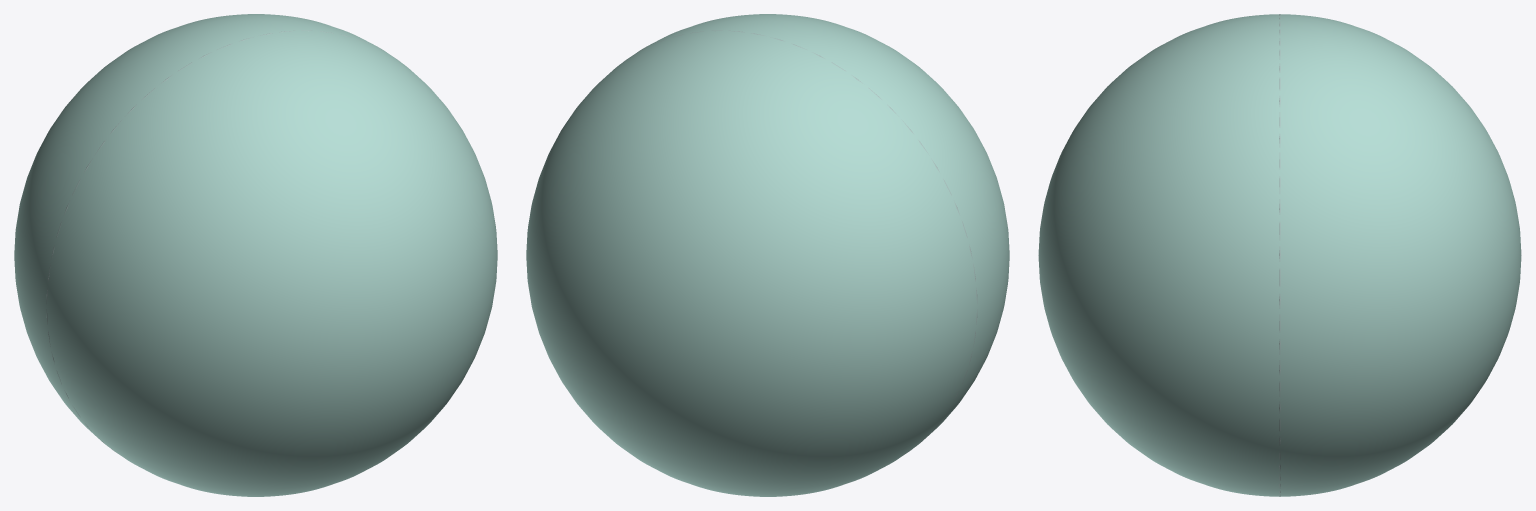
File: orbit-gyro.glb
3 renders of one model, left to right at view 1: azimuth 30°, elevation 25°; view 2: azimuth 150°, elevation 25°; view 3: azimuth 270°, elevation 25°, orthographic.
Parts seen in each view (by area): view 1: Front hemisphere, Rear hemisphere, Housing joint; view 2: Rear hemisphere, Front hemisphere, Housing joint; view 3: Front hemisphere, Rear hemisphere, Housing joint.
Boxes of the visible parts, x1,y1,x2,y2 form: Front hemisphere: (46,30,497,496); Rear hemisphere: (14,14,386,444); Housing joint: (46,30,399,453); Rear hemisphere: (526,30,977,496); Front hemisphere: (637,14,1009,444); Housing joint: (624,30,977,453); Front hemisphere: (1038,14,1279,496); Rear hemisphere: (1280,14,1521,496); Housing joint: (1279,14,1280,496).
Size of the model in its own units: 0.28 by 0.28 by 0.28.
